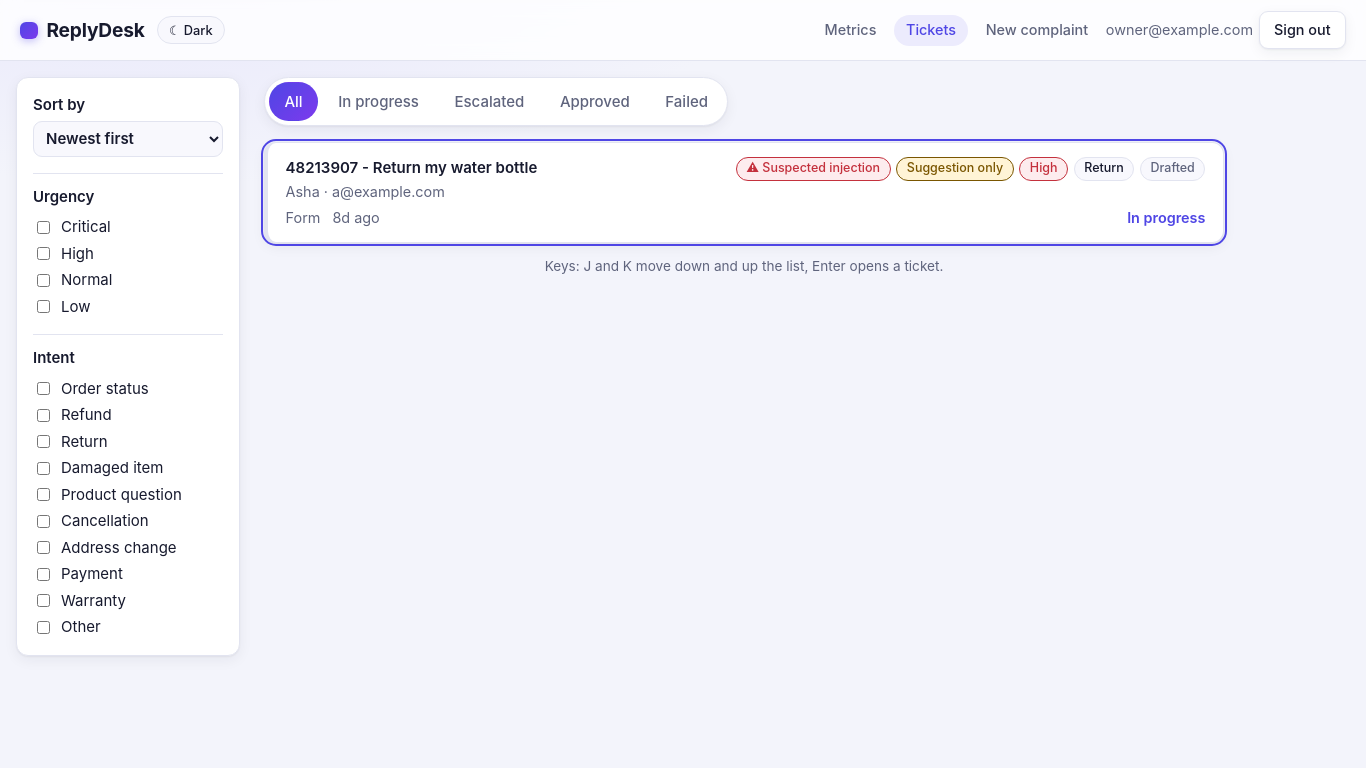
Test case: accessibility › has a skip link, titles each page and moves focus to the content on navigation
Check: the link "48213907 - Return my water bottle" is shown, box [286, 158, 537, 177]
Click the link "Metrics".
click(850, 30)  # box [825, 21, 876, 38]
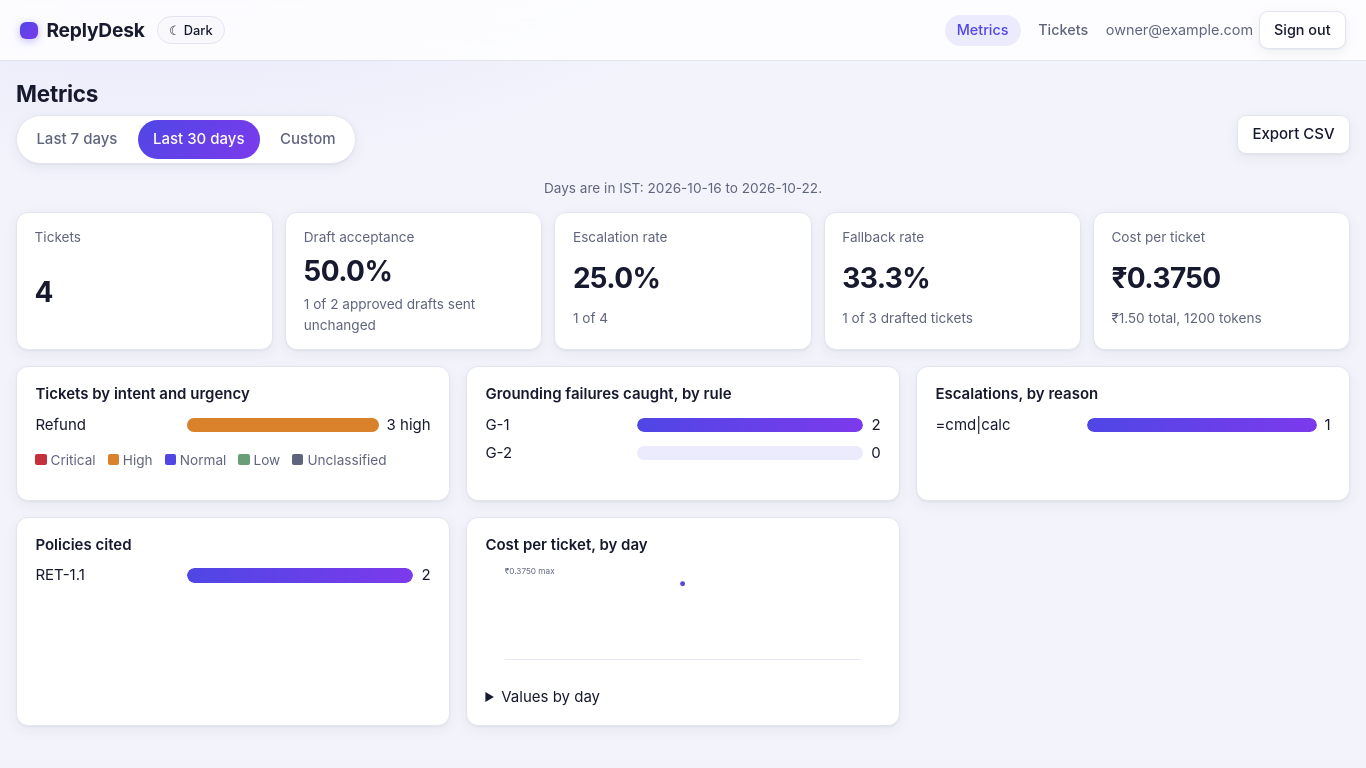
Check: the text "Cost per ticket, by day" is shown, box [485, 535, 648, 554]
